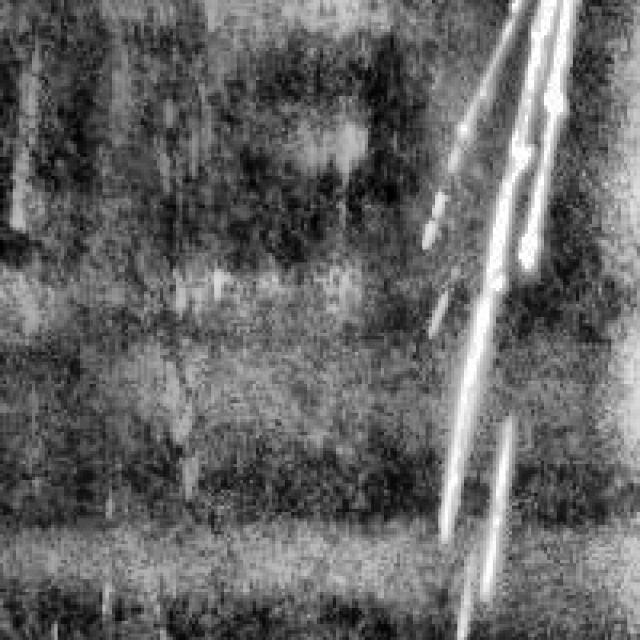Inclusion: (420, 0, 572, 541), (451, 384, 522, 634)
